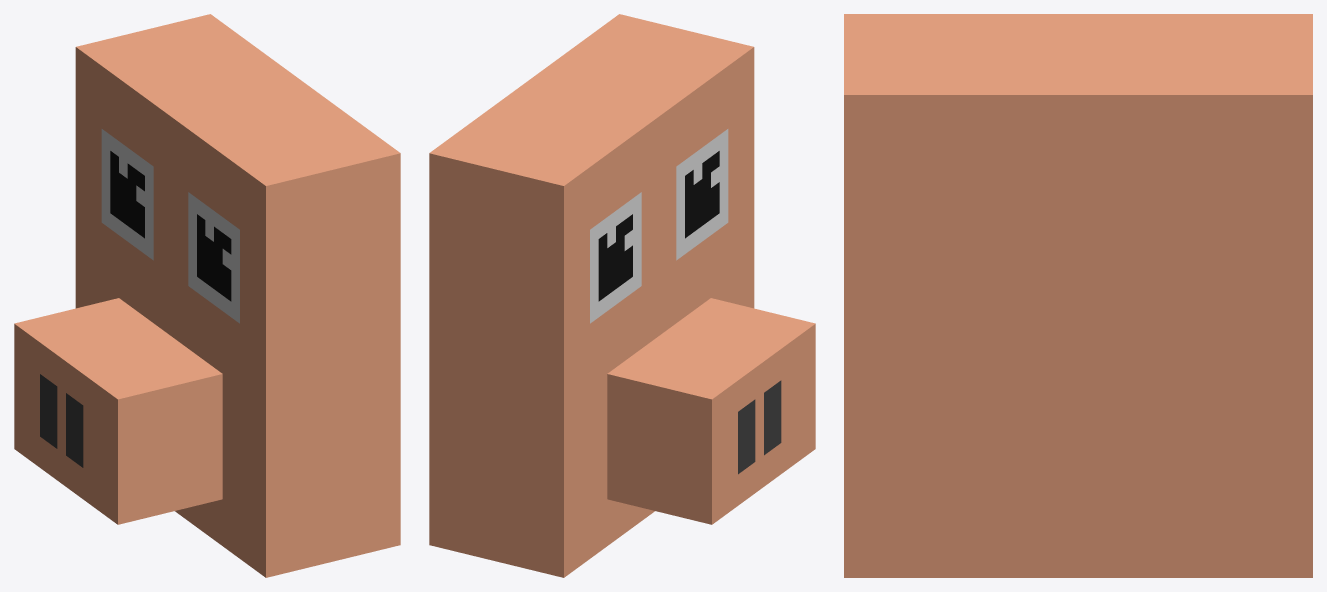
The model's file is CBINKA-2.obj.
3 renders of one model, left to right at view 1: azimuth 30°, elevation 25°; view 2: azimuth 150°, elevation 25°; view 3: azimuth 270°, elevation 25°, orthographic. The views are drawn at different scales.
Bounding box in the file's own units: 1.6 × 2.5 × 2.2.
1 material, 1 textured.
